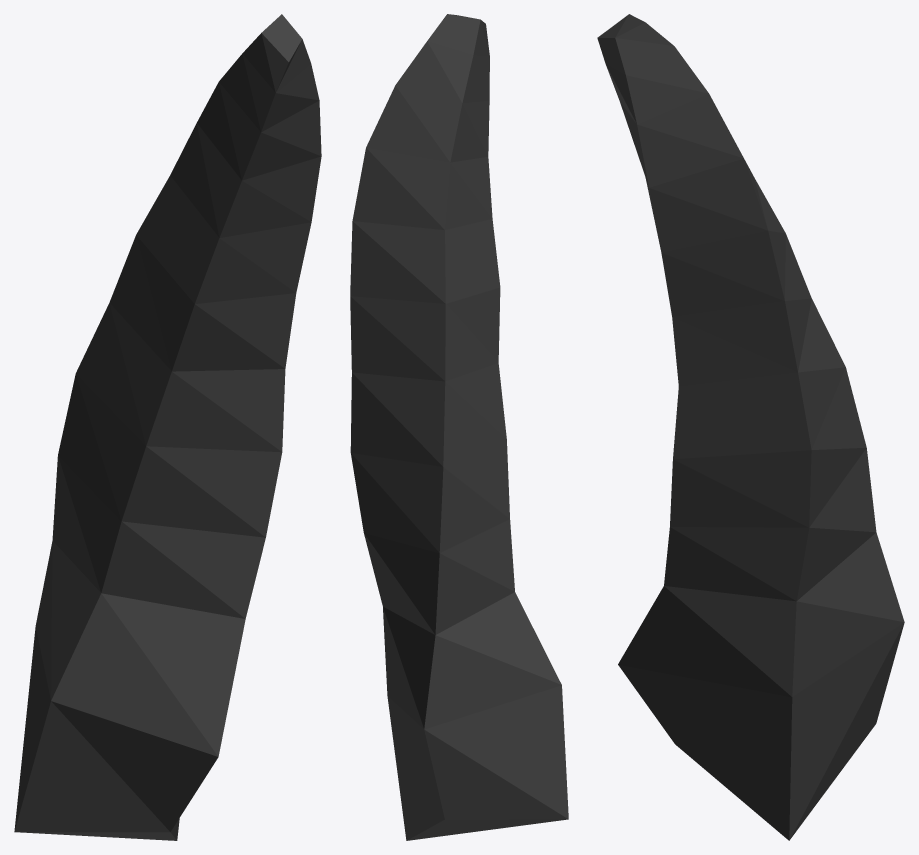
3 views of the same model, side by side, from view 1: azimuth 30°, elevation 25°; view 2: azimuth 150°, elevation 25°; view 3: azimuth 270°, elevation 25° (orthographic). The views are drawn at different scales.
Parts seen in each view (by area): view 1: world; view 2: world; view 3: world.
Part boxes in pixels (x1,y1,x2,y2): world: [14, 14, 321, 840]; world: [350, 14, 568, 840]; world: [597, 14, 904, 840].
Bounding box in the file's own units: 0.015 × 0.051 × 0.0171.
1 material, 1 textured.
